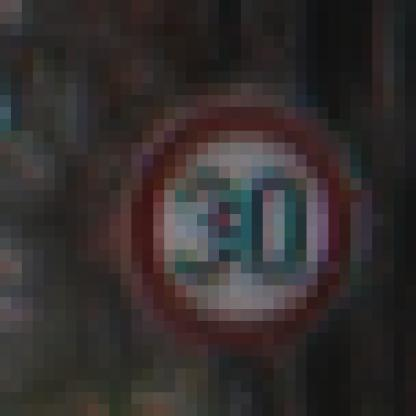Speed Limit 30: (123, 101, 349, 352)
